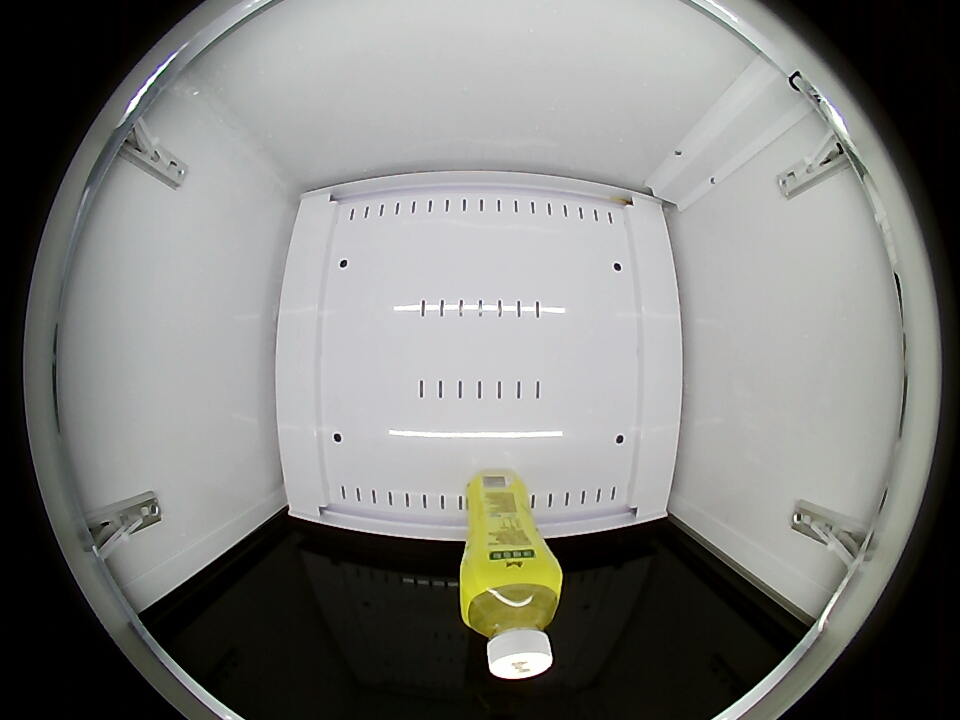bingtangxueli: (460, 555, 562, 680)
